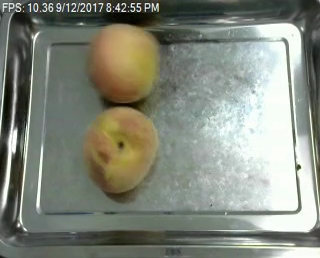Peach: (82, 105, 158, 194), (86, 23, 158, 104)
